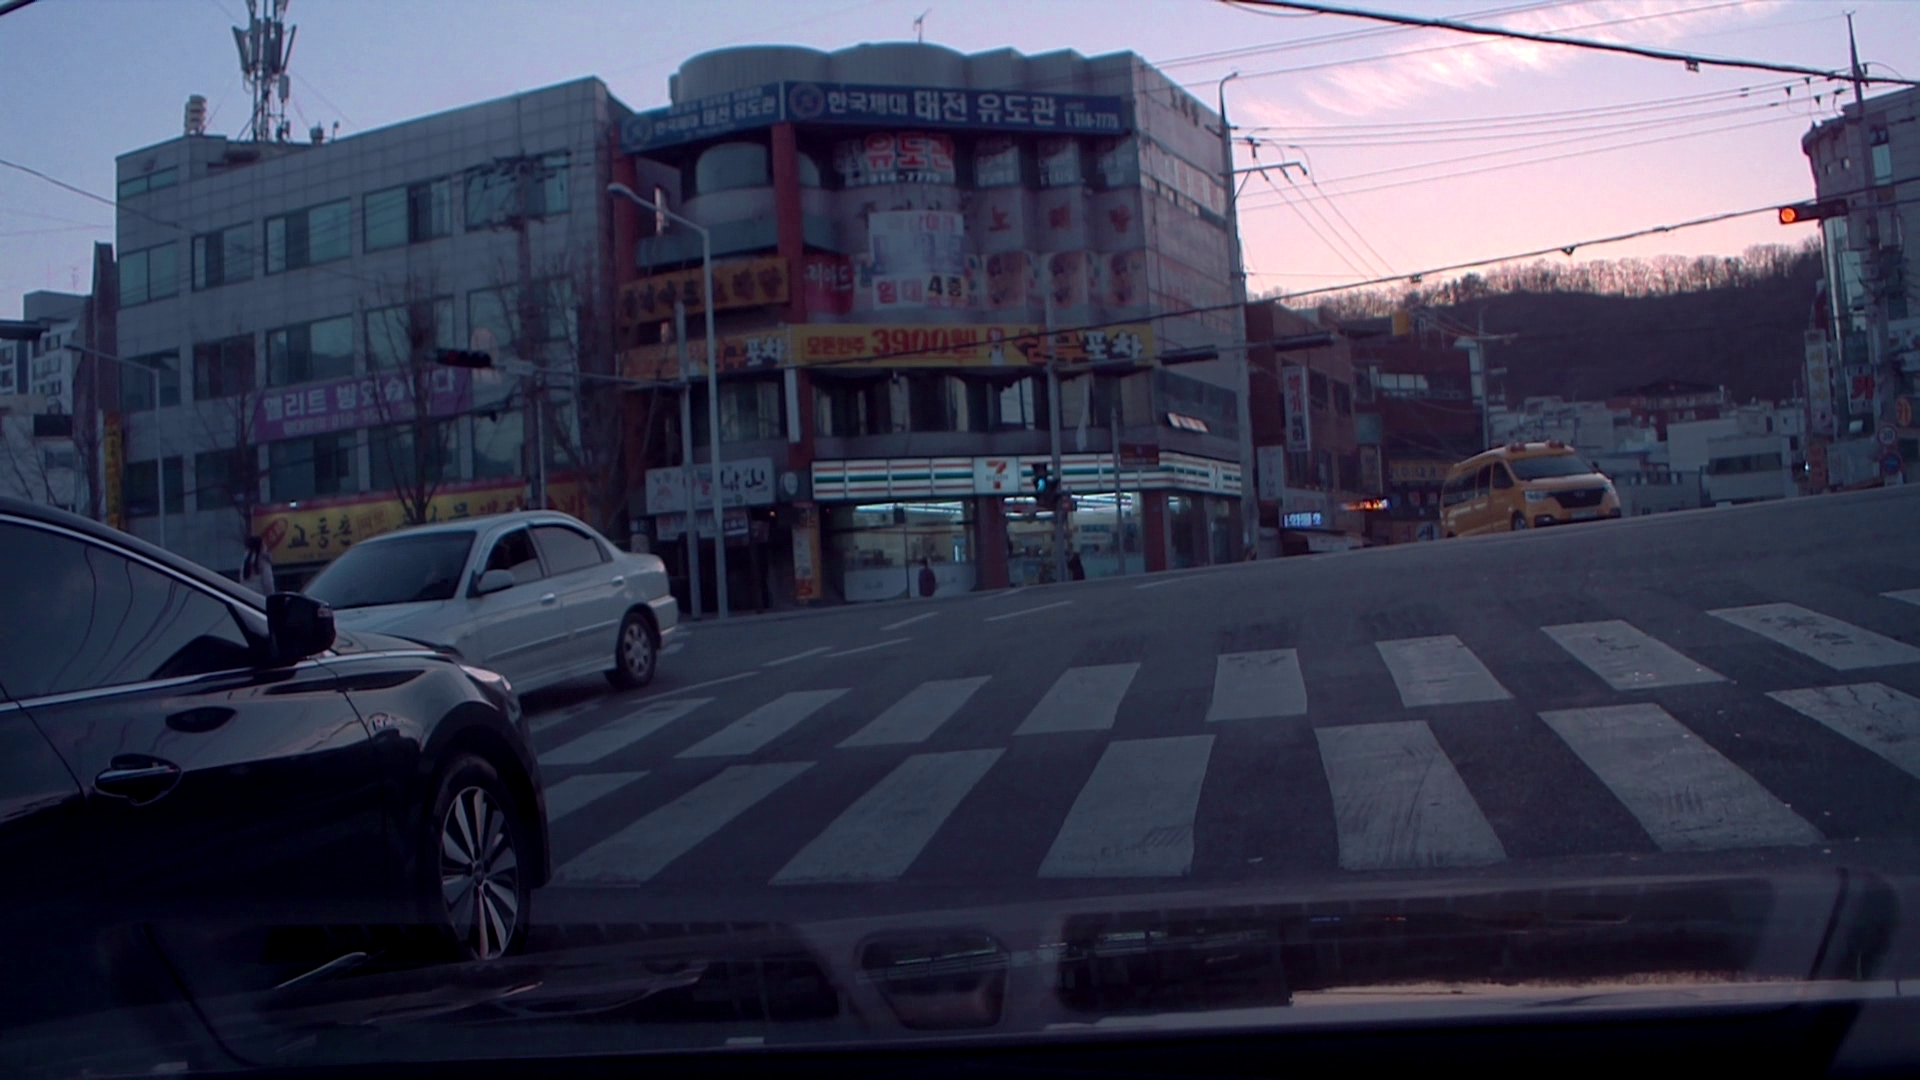trafficLight: (1778, 196, 1849, 228)
trafficLightBar: (1023, 462, 1055, 512)
